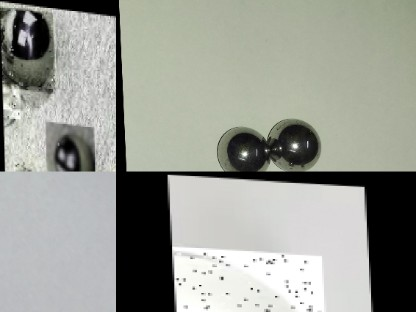ironball: (0, 4, 54, 91), (267, 115, 320, 168), (44, 118, 94, 171), (211, 125, 268, 170), (1, 82, 20, 127)
